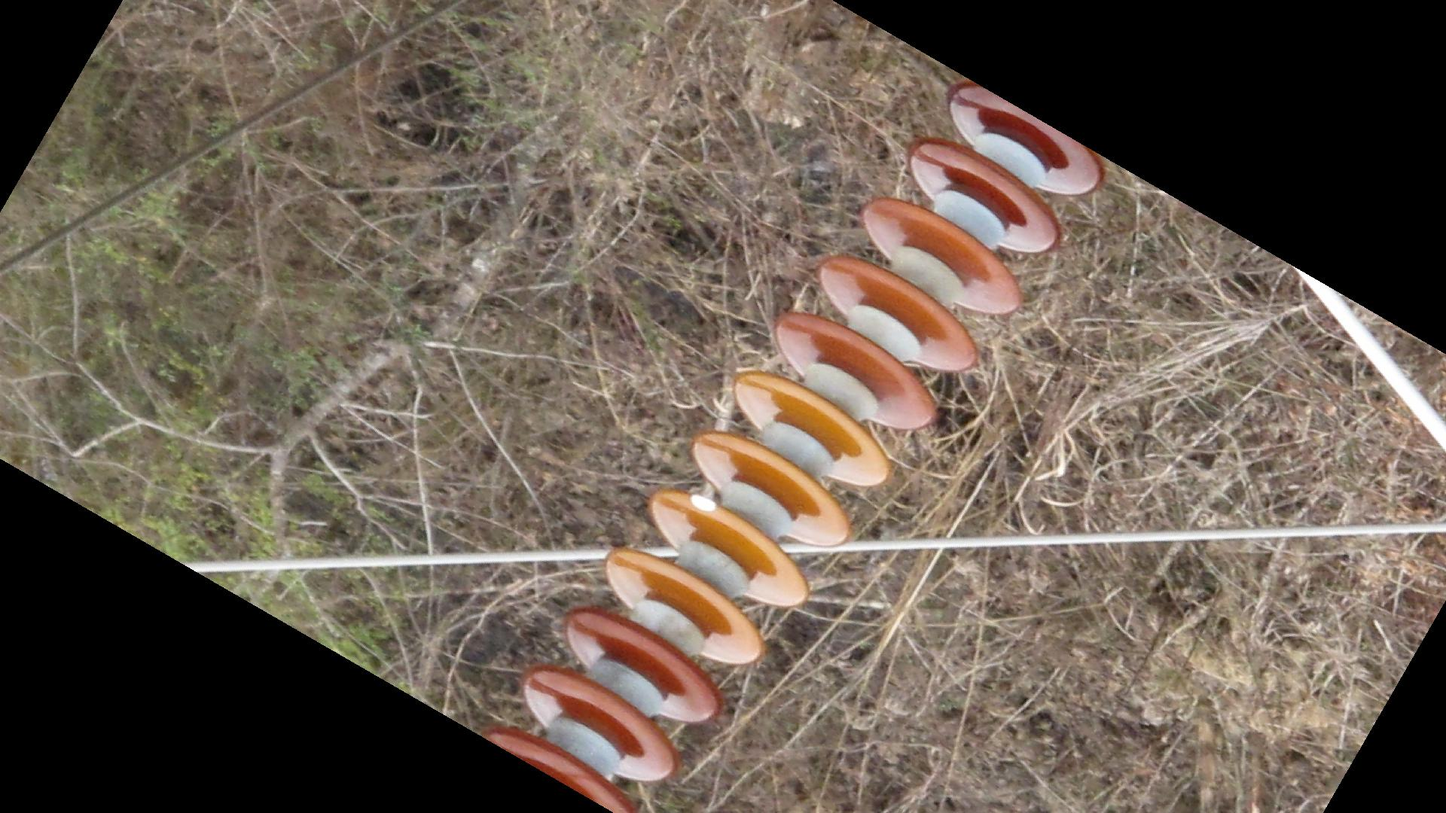insulator: (480, 79, 1115, 813)
insulator_breakage: (676, 489, 729, 527)
